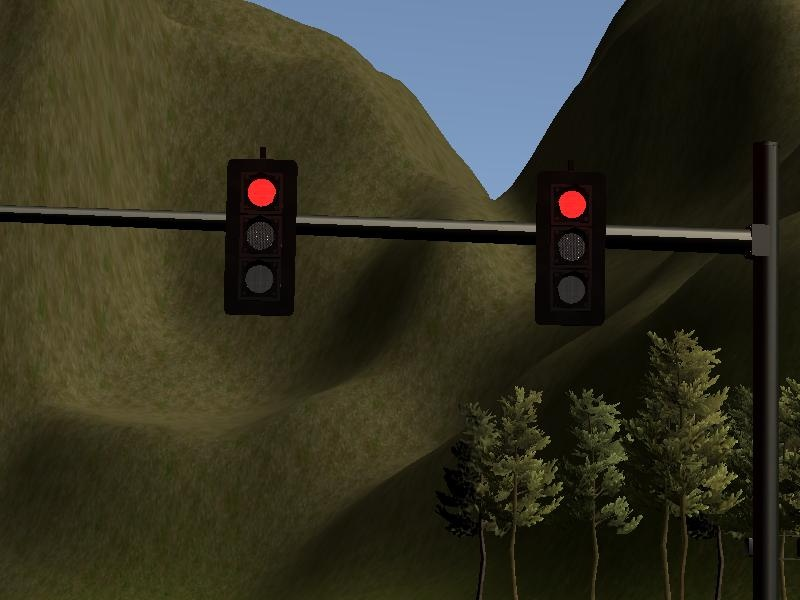red: (223, 153, 301, 323), (533, 168, 611, 328)
